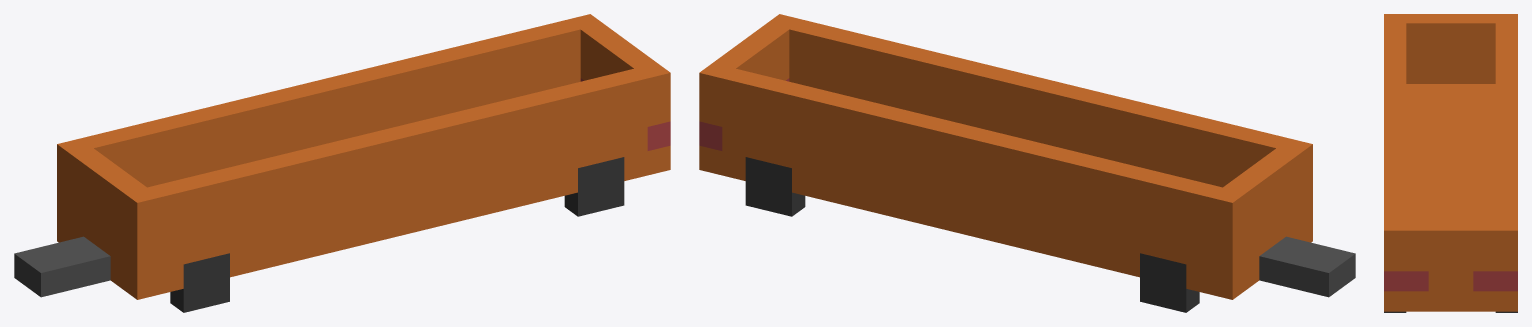
The model's file is truck-trailer-v3-orange.gltf.
3 views of the same model, side by side, from view 1: azimuth 30°, elevation 25°; view 2: azimuth 150°, elevation 25°; view 3: azimuth 270°, elevation 25° (orthographic). The views are drawn at different scales.
Visible parts, largest first — view 1: model, wheels; view 2: model, wheels; view 3: model.
Boxes of the visible parts, x1,y1,x2,y2 form: model: [14, 14, 670, 299]; wheels: [170, 157, 624, 312]; model: [699, 14, 1355, 299]; wheels: [745, 157, 1199, 312]; model: [1384, 14, 1517, 311].
Bounding box in the file's own units: 2.6 × 0.5 × 0.6.
Materials: 2 (2 with a texture image).
